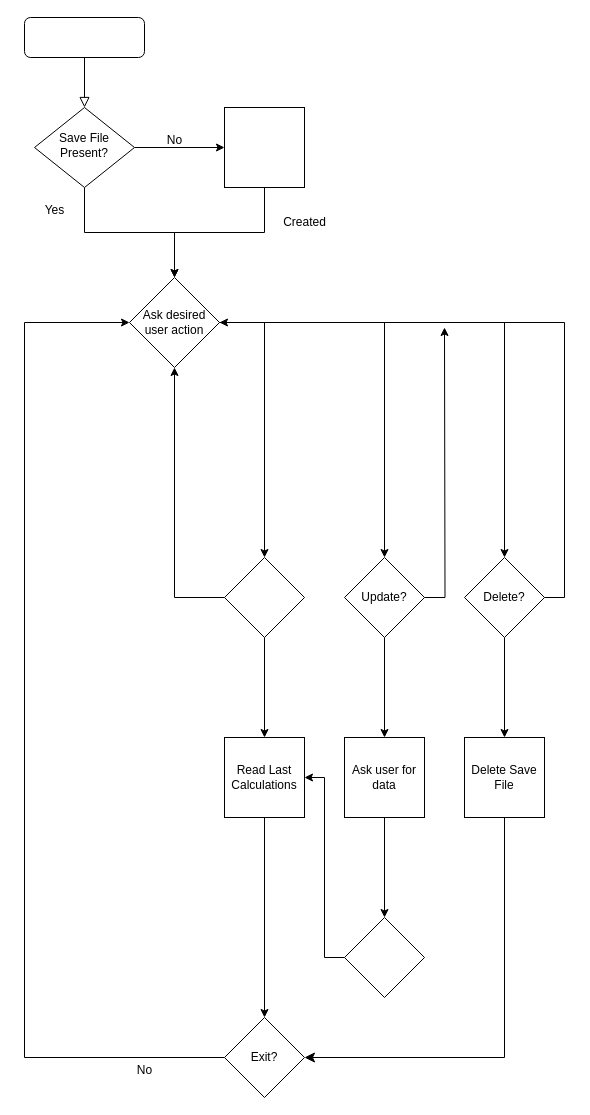
This 590x1115 diagram has some shape labels left out. Here are the shapes that lost their labels. From the top down, the box of each, then its label:
(24, 16, 144, 58): Application Entry
(224, 106, 304, 188): Create New Save File
(224, 556, 304, 638): Read?
(344, 916, 424, 998): Calculate
